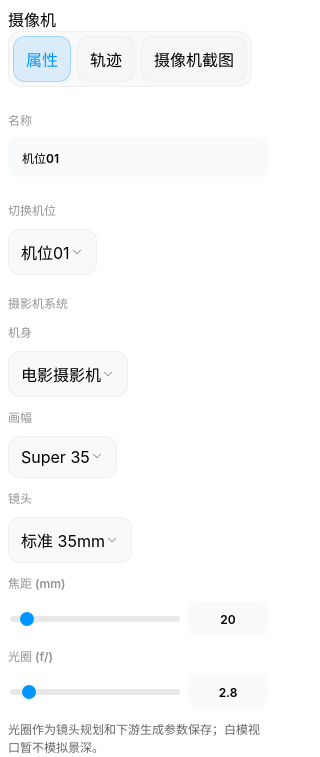
edits and removes the selected camera motion keyframe
Step 1. Click the button "轨迹" → x=106, y=59, box [77,36,135,82]
(page scrolled)
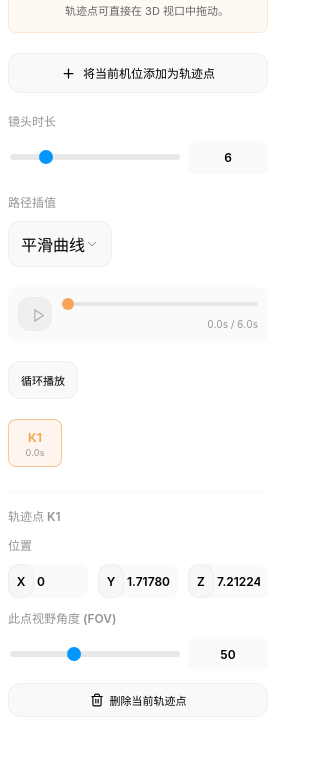
Step 2. Replace the text in the number field named "轨迹点位置 X" with "7.5" → x=60, y=581, box [31,564,88,598]
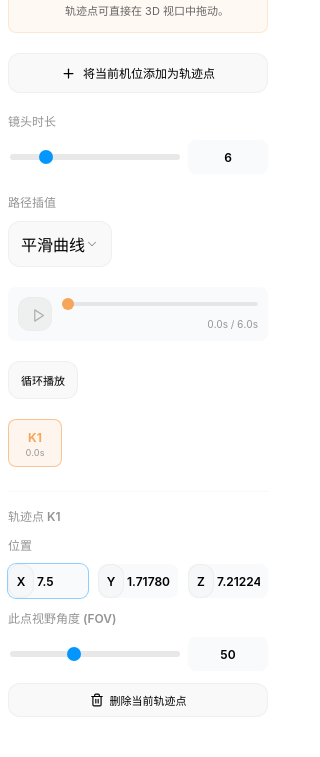
Step 3. Replace the text in the number field named "轨迹点 FOV" with "32" → x=228, y=654, box [188,637,268,671]
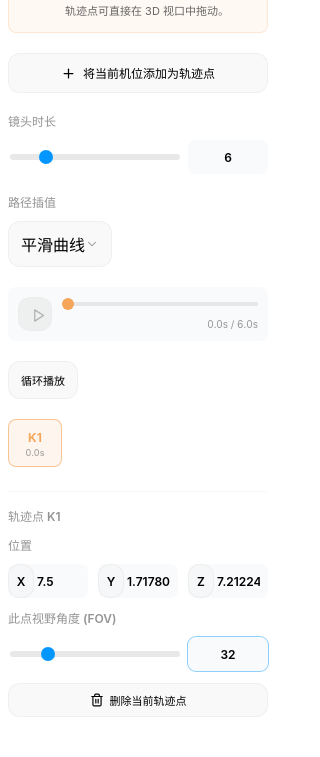
Step 4. Press Tab
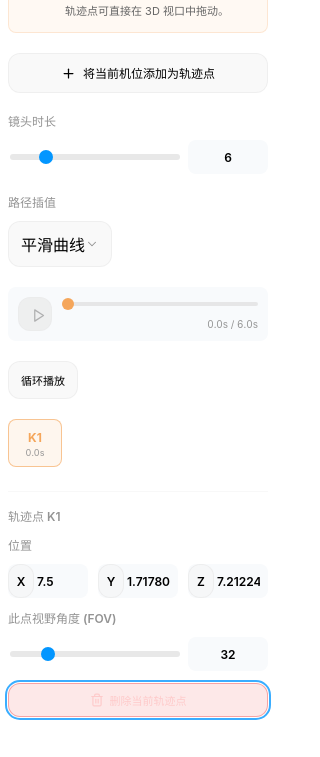
Step 5. Click the button "删除当前轨迹点" → x=138, y=700, box [8,683,268,717]
(page scrolled)
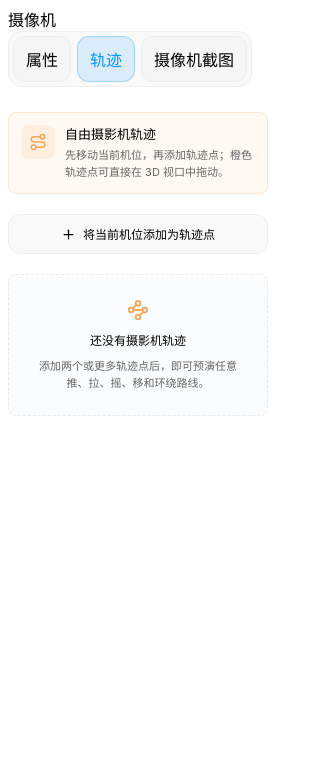
Now the message shows "还没有摄影机轨迹", box [90,332,186,348]
